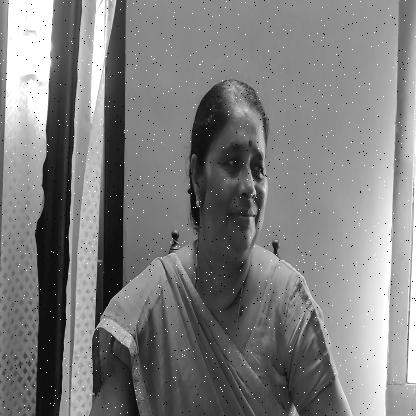Distracted: (195, 95, 269, 271)
